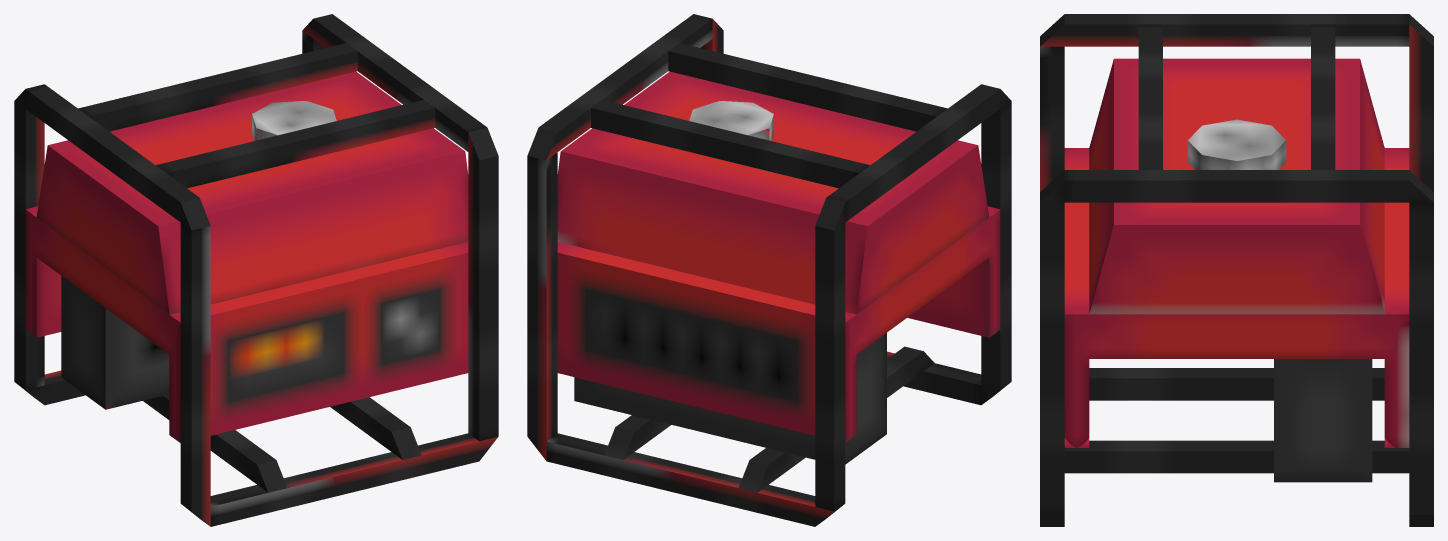
File: dieselgen_generator.obj
3 views of the same model, side by side, from view 1: azimuth 30°, elevation 25°; view 2: azimuth 150°, elevation 25°; view 3: azimuth 270°, elevation 25° (orthographic). The views are drawn at different scales.
Parts seen in each view (by area): view 1: Generator; view 2: Generator; view 3: Generator.
Part boxes in pixels (left/top/right/bottom): Generator: left=14, top=14, right=498, bottom=526; Generator: left=527, top=14, right=1011, bottom=526; Generator: left=1040, top=14, right=1433, bottom=526.
Size of the model in its own units: 1 by 1 by 1.
